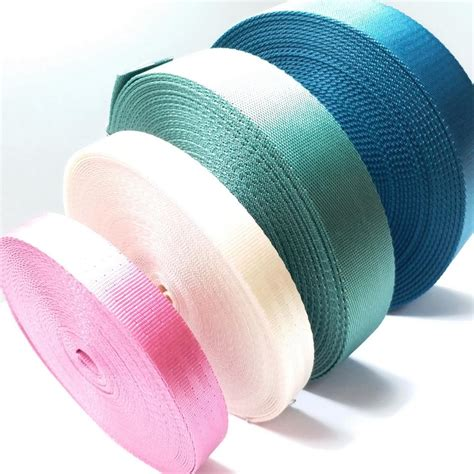nylon: (2, 1, 474, 474)
